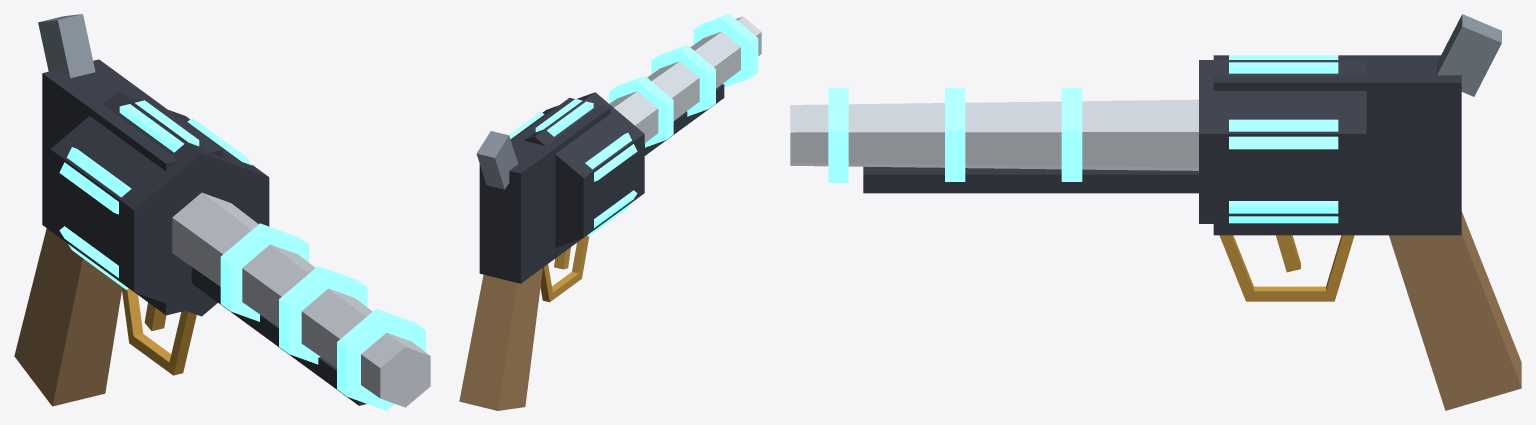
Rendered from Wpn_Blaster_SixShooter.fbx.
3 views of the same model, side by side, from view 1: azimuth 30°, elevation 25°; view 2: azimuth 150°, elevation 25°; view 3: azimuth 270°, elevation 25° (orthographic). The views are drawn at different scales.
Parts seen in each view (by area): view 1: Wpn_Blaster_SixShooter; view 2: Wpn_Blaster_SixShooter; view 3: Wpn_Blaster_SixShooter.
Boxes of the visible parts, x1,y1,x2,y2 form: Wpn_Blaster_SixShooter: (14,14,430,410); Wpn_Blaster_SixShooter: (459,14,761,410); Wpn_Blaster_SixShooter: (790,14,1521,410).
Bounding box in the file's own units: 0.0925 × 0.2285 × 0.4009.
